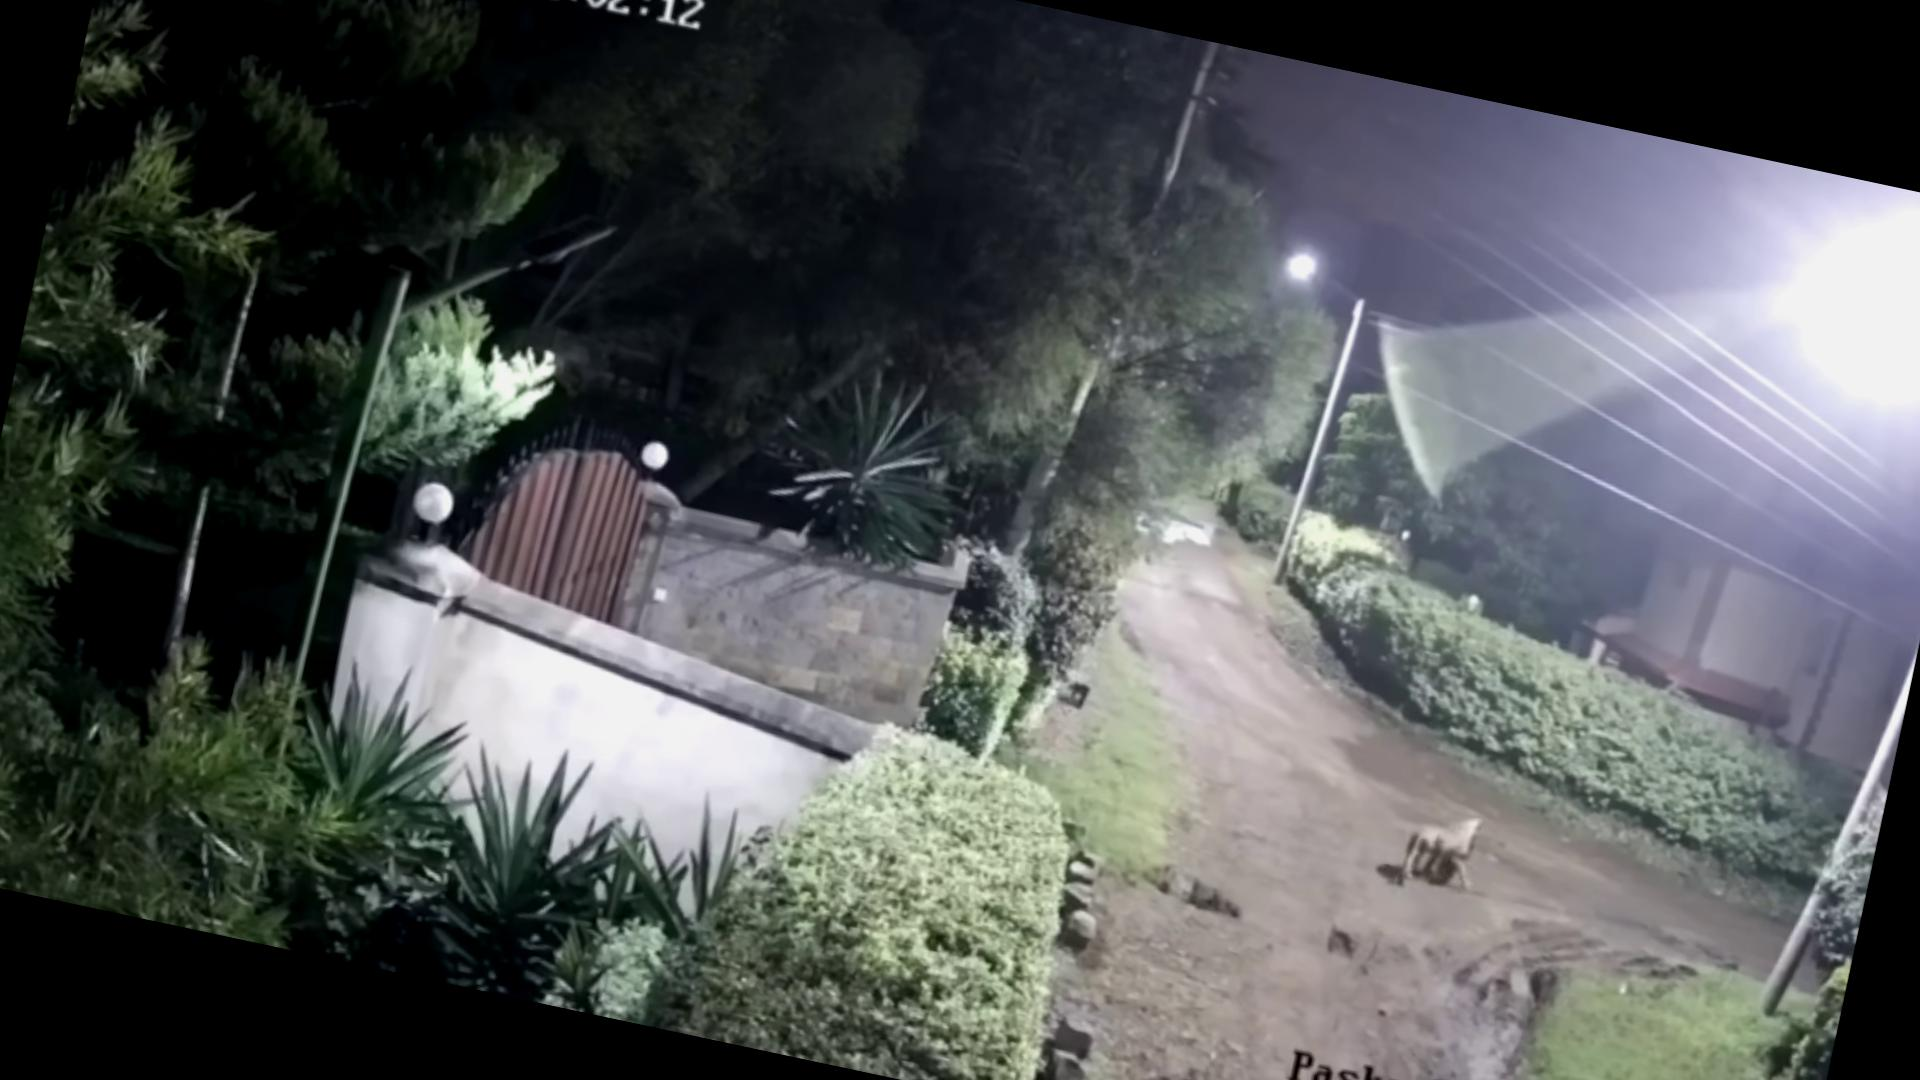lions: (1340, 745, 1582, 972)
